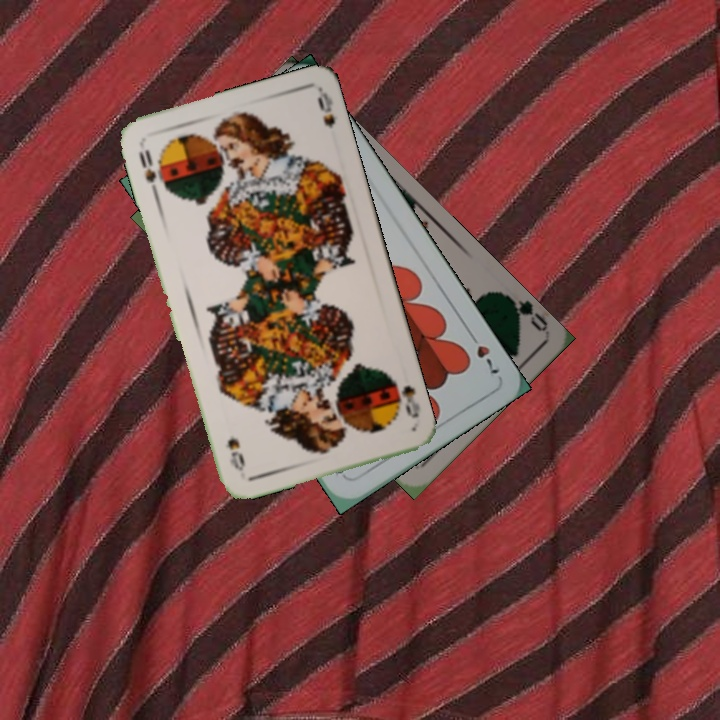GO: (499, 290, 550, 335)
H7: (463, 326, 503, 377)
SO: (385, 371, 423, 421), (134, 145, 168, 198)
